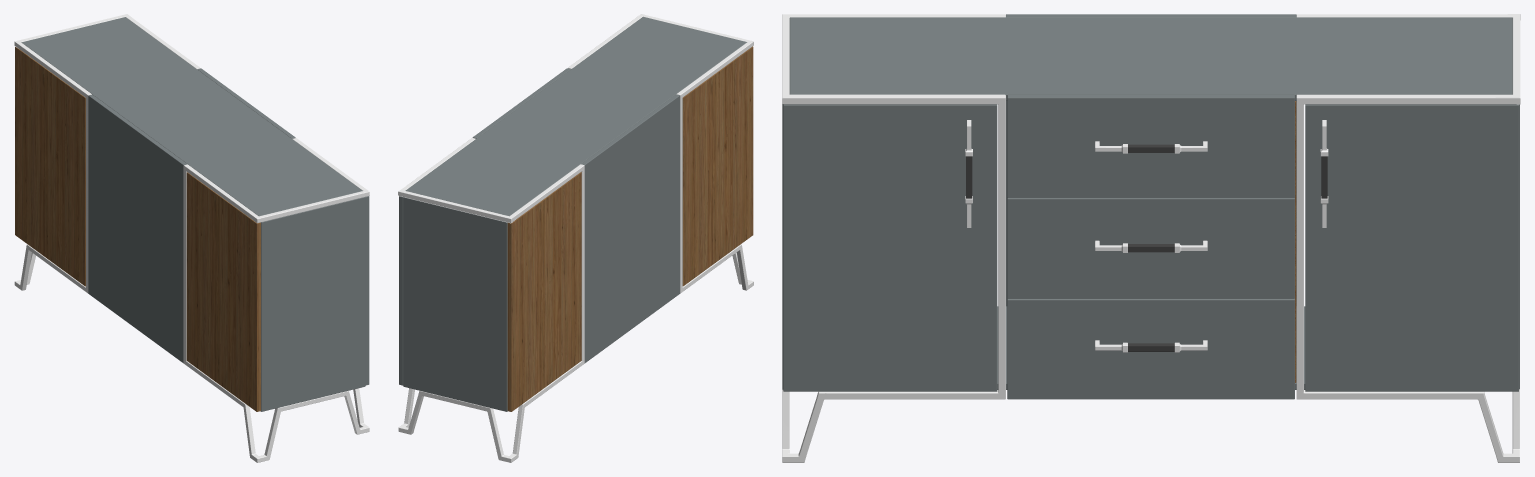
3 renders of one model, left to right at view 1: azimuth 30°, elevation 25°; view 2: azimuth 150°, elevation 25°; view 3: azimuth 270°, elevation 25°, orthographic. The views are drawn at different scales.
Visible parts, largest first — view 1: pasted__pasted__pasted__pasted__polySurface232, pasted__pasted__pasted__pasted__polySurface230, pasted__pasted__pasted__pasted__polySurface229, pasted__pasted__pasted__pasted__polySurface233, pasted__pasted__pasted__pasted__polySurface222, pasted__pasted__pasted__pasted__polySurface234, pasted__pasted__pasted__pasted__polySurface231, pasted__pasted__pasted__pasted__polySurface223, pasted__pasted__pasted__pasted__polySurface226; view 2: pasted__pasted__pasted__pasted__polySurface232, pasted__pasted__pasted__pasted__polySurface224, pasted__pasted__pasted__pasted__polySurface229, pasted__pasted__pasted__pasted__polySurface222, pasted__pasted__pasted__pasted__polySurface233, pasted__pasted__pasted__pasted__polySurface231, pasted__pasted__pasted__pasted__polySurface234, pasted__pasted__pasted__pasted__polySurface221, pasted__pasted__pasted__pasted__polySurface226; view 3: pasted__pasted__pasted__pasted__polySurface223, pasted__pasted__pasted__pasted__polySurface221, pasted__pasted__pasted__pasted__polySurface232, pasted__pasted__pasted__pasted__polySurface226, pasted__pasted__pasted__pasted__polySurface225, pasted__pasted__pasted__pasted__polySurface227, pasted__pasted__pasted__pasted__polySurface231, pasted__pasted__pasted__pasted__polySurface234, pasted__pasted__pasted__pasted__polySurface229, pasted__pasted__pasted__polySurface11, pasted__pasted__pasted__polySurface9, pasted__pasted__pasted__polySurface10.
Part boxes in pixels (x1,y1,x2,y2): pasted__pasted__pasted__pasted__polySurface232: [21, 17, 362, 216]; pasted__pasted__pasted__pasted__polySurface230: [260, 197, 365, 411]; pasted__pasted__pasted__pasted__polySurface229: [88, 94, 187, 363]; pasted__pasted__pasted__pasted__polySurface233: [186, 172, 260, 411]; pasted__pasted__pasted__pasted__polySurface222: [15, 47, 85, 286]; pasted__pasted__pasted__pasted__polySurface234: [183, 138, 369, 462]; pasted__pasted__pasted__pasted__polySurface231: [14, 14, 200, 293]; pasted__pasted__pasted__pasted__polySurface223: [365, 196, 369, 385]; pasted__pasted__pasted__pasted__polySurface226: [197, 68, 295, 138]; pasted__pasted__pasted__pasted__polySurface232: [405, 17, 746, 216]; pasted__pasted__pasted__pasted__polySurface224: [403, 197, 507, 411]; pasted__pasted__pasted__pasted__polySurface229: [581, 94, 680, 363]; pasted__pasted__pasted__pasted__polySurface222: [507, 172, 581, 411]; pasted__pasted__pasted__pasted__polySurface233: [682, 46, 753, 286]; pasted__pasted__pasted__pasted__polySurface231: [398, 138, 584, 462]; pasted__pasted__pasted__pasted__polySurface234: [568, 14, 753, 293]; pasted__pasted__pasted__pasted__polySurface221: [399, 196, 403, 385]; pasted__pasted__pasted__pasted__polySurface226: [472, 68, 570, 138]; pasted__pasted__pasted__pasted__polySurface223: [783, 104, 997, 391]; pasted__pasted__pasted__pasted__polySurface221: [1305, 104, 1518, 391]; pasted__pasted__pasted__pasted__polySurface232: [789, 17, 1512, 100]; pasted__pasted__pasted__pasted__polySurface226: [1007, 94, 1294, 197]; pasted__pasted__pasted__pasted__polySurface225: [1007, 298, 1294, 399]; pasted__pasted__pasted__pasted__polySurface227: [1007, 197, 1294, 298]; pasted__pasted__pasted__pasted__polySurface231: [1296, 14, 1520, 462]; pasted__pasted__pasted__pasted__polySurface234: [782, 14, 1005, 462]; pasted__pasted__pasted__pasted__polySurface229: [1006, 14, 1296, 306]; pasted__pasted__pasted__polySurface11: [1095, 340, 1207, 352]; pasted__pasted__pasted__polySurface9: [1095, 141, 1207, 153]; pasted__pasted__pasted__polySurface10: [1095, 240, 1207, 252].
Size of the model in its own units: 0.4356 by 0.83 by 1.5.
6 materials, 2 textured.
